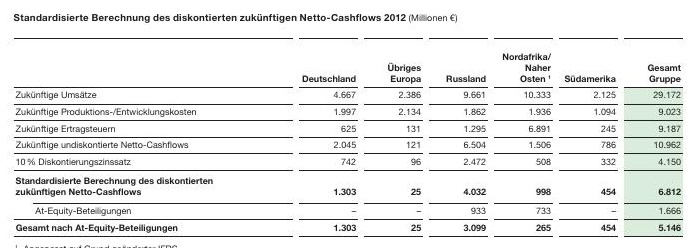table: (0, 0, 699, 248)
